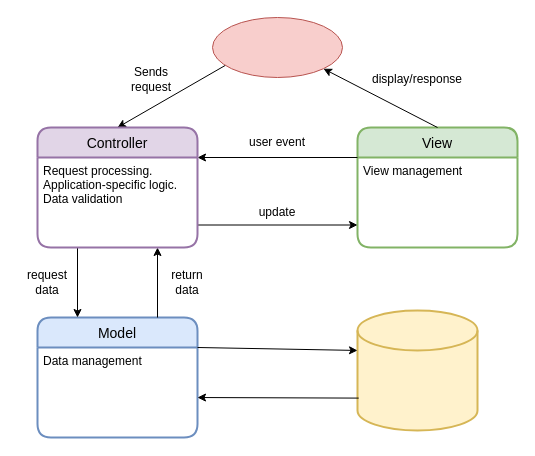
This 535x456 diagram has some shape labels left out. The shapes that lost their labels are listed below. From the top down, each one's centre as x and y in pixels, then its label:
the point at 277,47: Browser
the point at 417,370: Database
